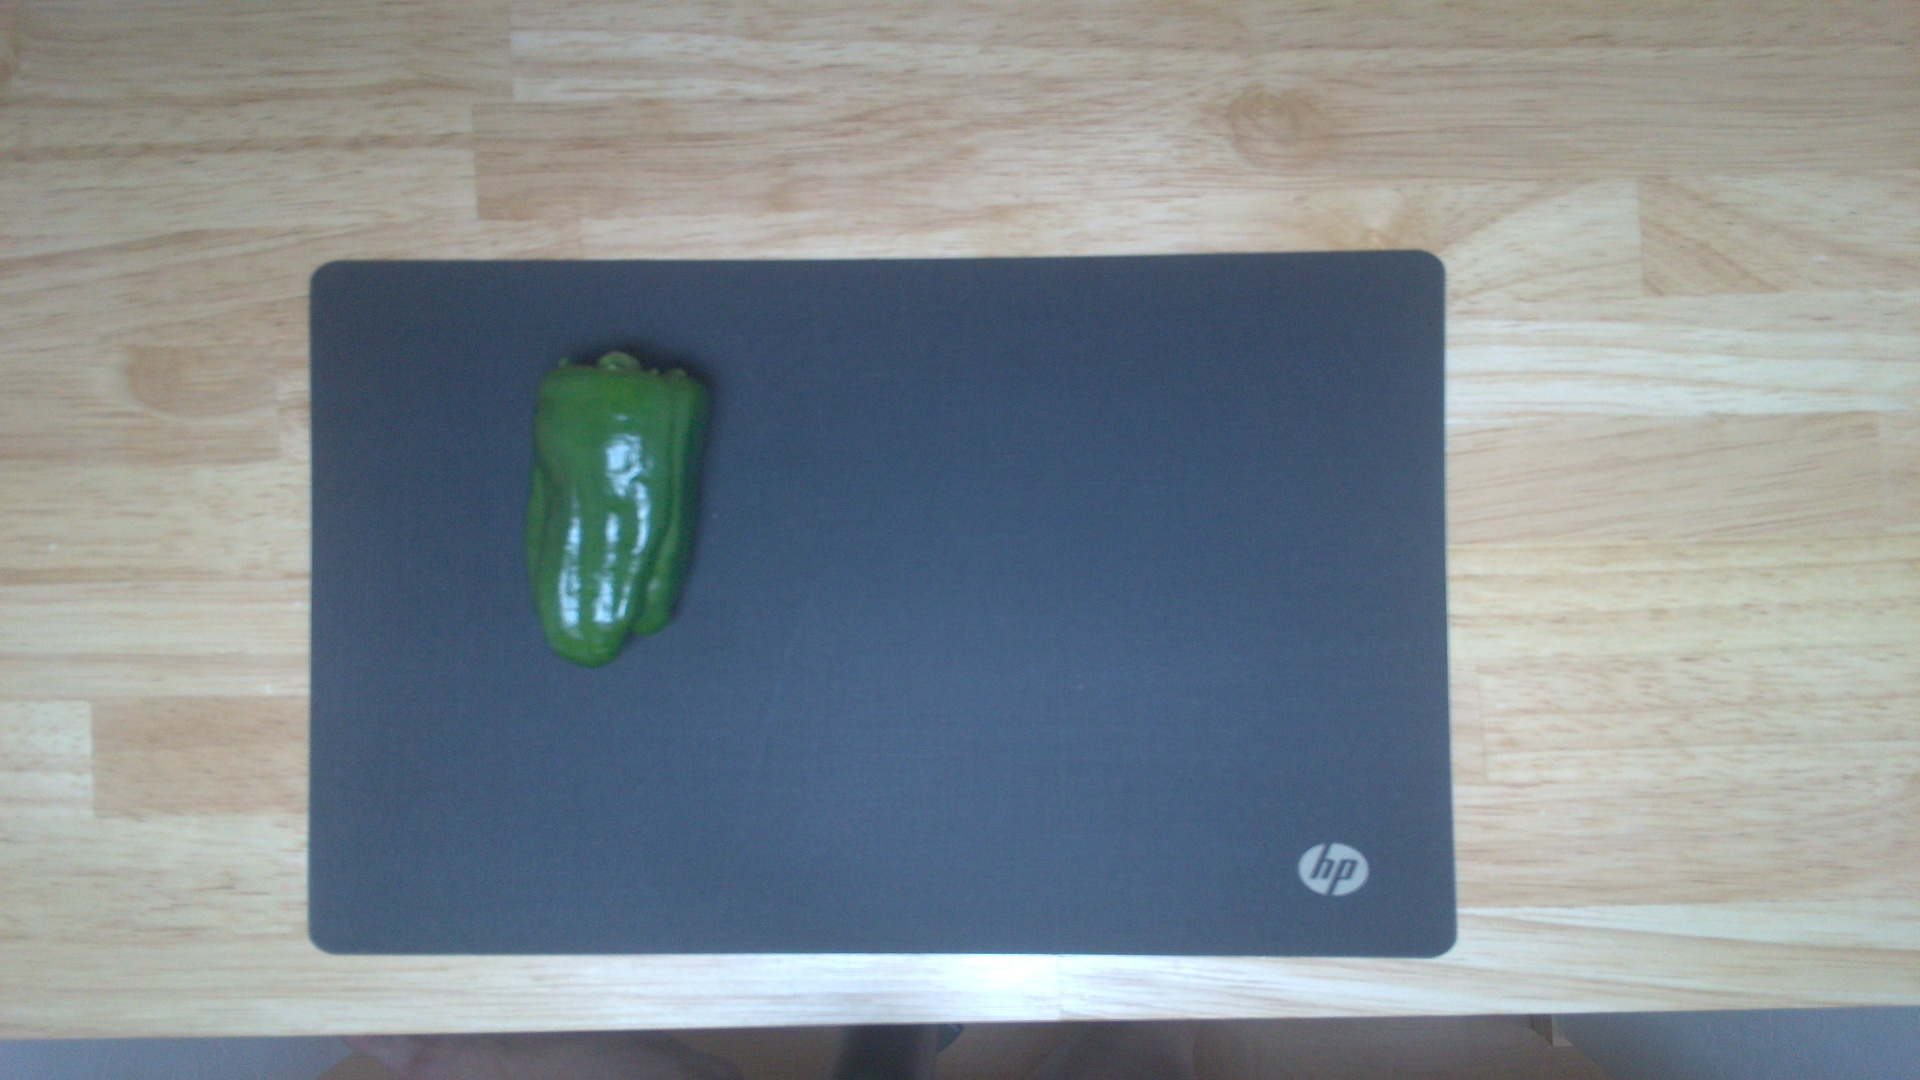Piman: (521, 345, 715, 667)
